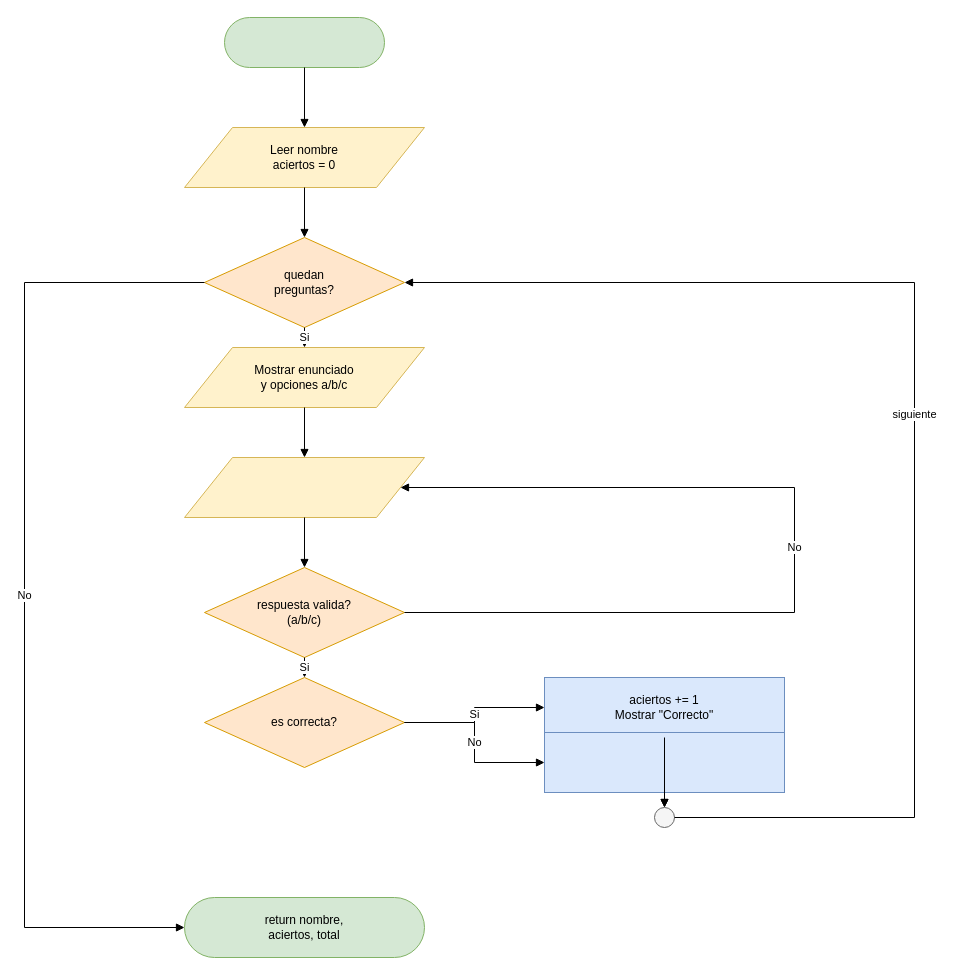
The diagram is 954 pixels wide and 975 high, and some of its shapes have lost their labels. Here are the shapes that lost their labels. From the top down, the box of each, then its label:
(224, 16, 384, 68): Inicio
(184, 456, 424, 518): Leer respuesta
(544, 732, 784, 792): Mostrar "Incorrecto" y la respuesta
